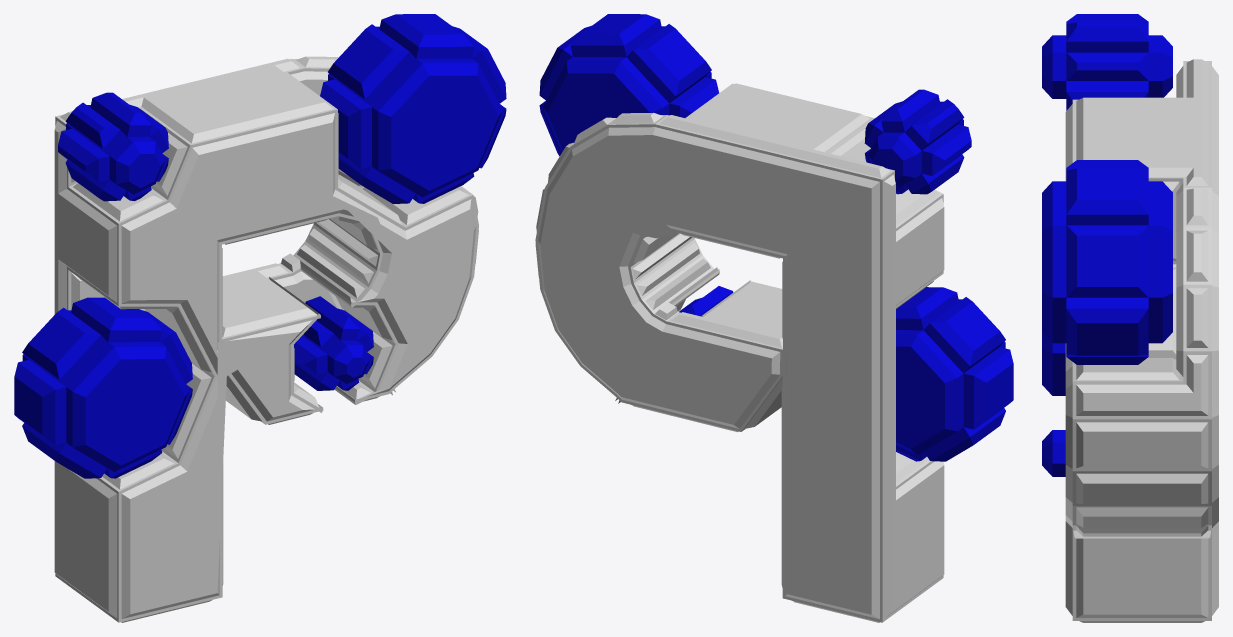
3 views of the same model, side by side, from view 1: azimuth 30°, elevation 25°; view 2: azimuth 150°, elevation 25°; view 3: azimuth 270°, elevation 25° (orthographic). The views are drawn at different scales.
Parts seen in each view (by area): view 1: sphere1; view 2: sphere1; view 3: sphere1.
Boxes of the visible parts, x1,y1,x2,y2 form: sphere1: (14,14,506,622); sphere1: (535,14,1013,622); sphere1: (1042,14,1218,622).
Size of the model in its own units: 0.8433 by 0.9003 by 0.2541.
